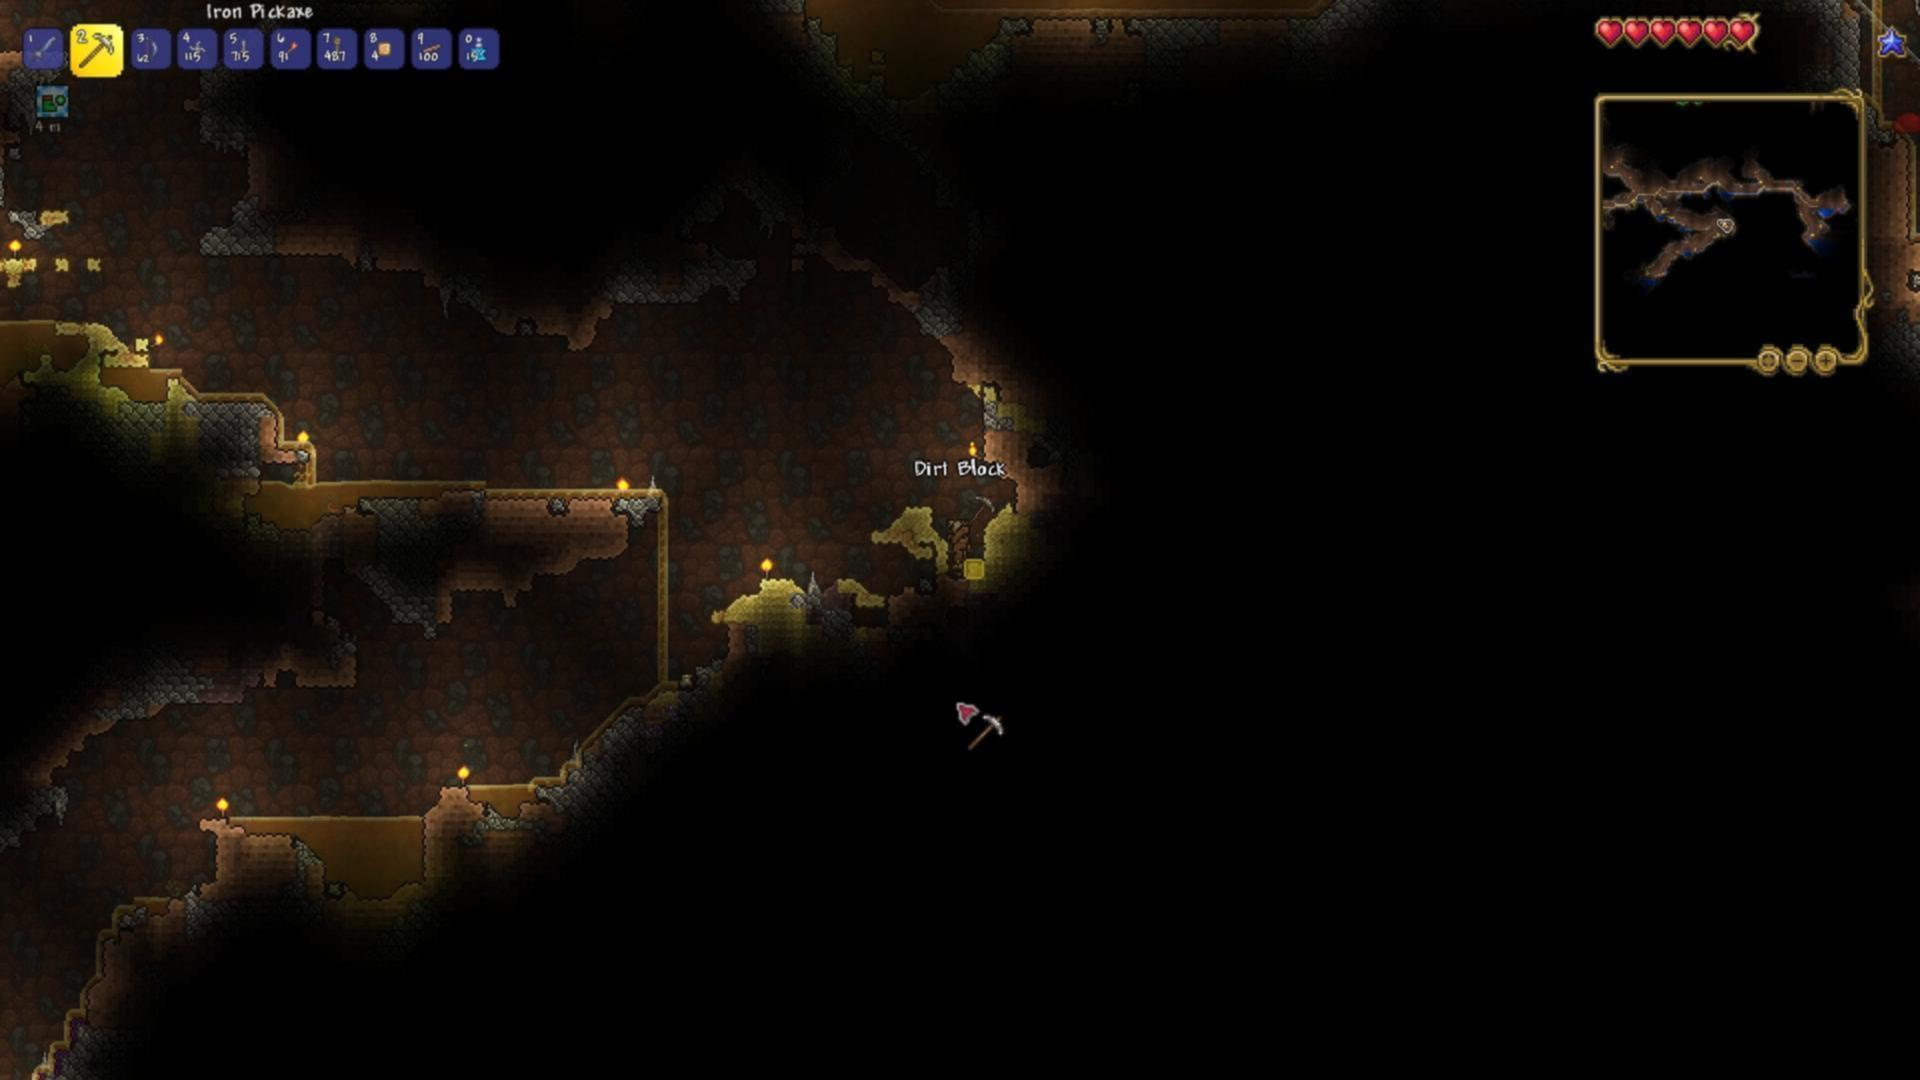bow: (144, 33, 158, 66)
knife: (237, 33, 251, 58)
liquid: (0, 316, 57, 340), (291, 475, 330, 496), (393, 804, 422, 832), (488, 479, 520, 498), (331, 477, 364, 495), (364, 475, 397, 491), (262, 479, 290, 496), (397, 473, 419, 495), (146, 364, 166, 385), (422, 476, 440, 496)
pickaxe: (76, 32, 113, 69)
shuriken: (186, 40, 208, 58)
sword: (28, 36, 59, 63)
